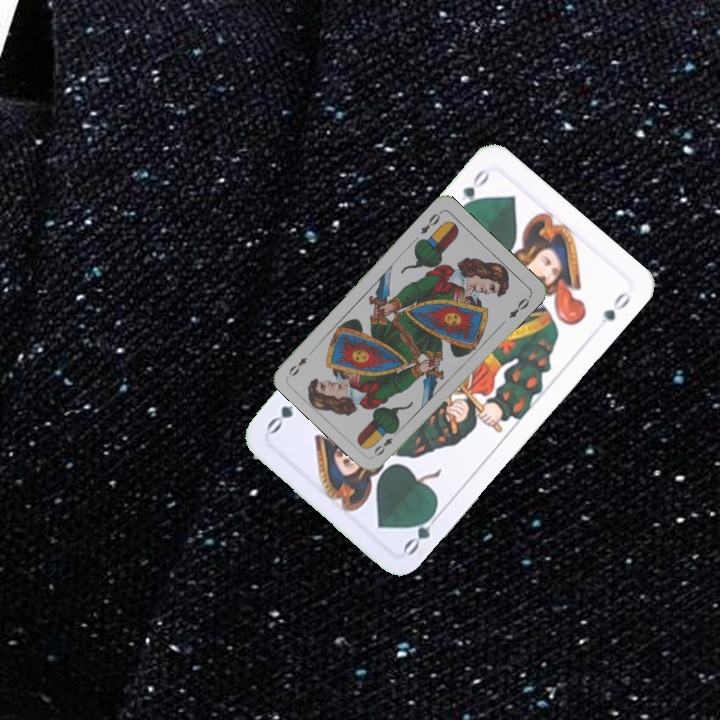EO: (369, 426, 402, 459), (416, 207, 444, 237)
GO: (399, 504, 445, 558), (453, 165, 492, 217)
